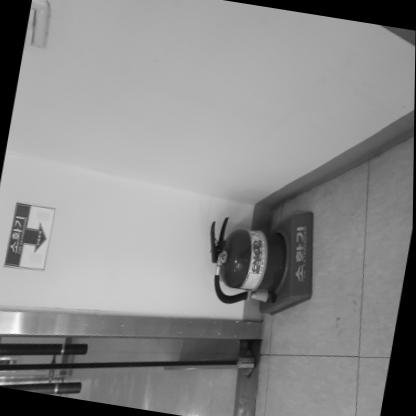FE: (196, 194, 327, 322)
